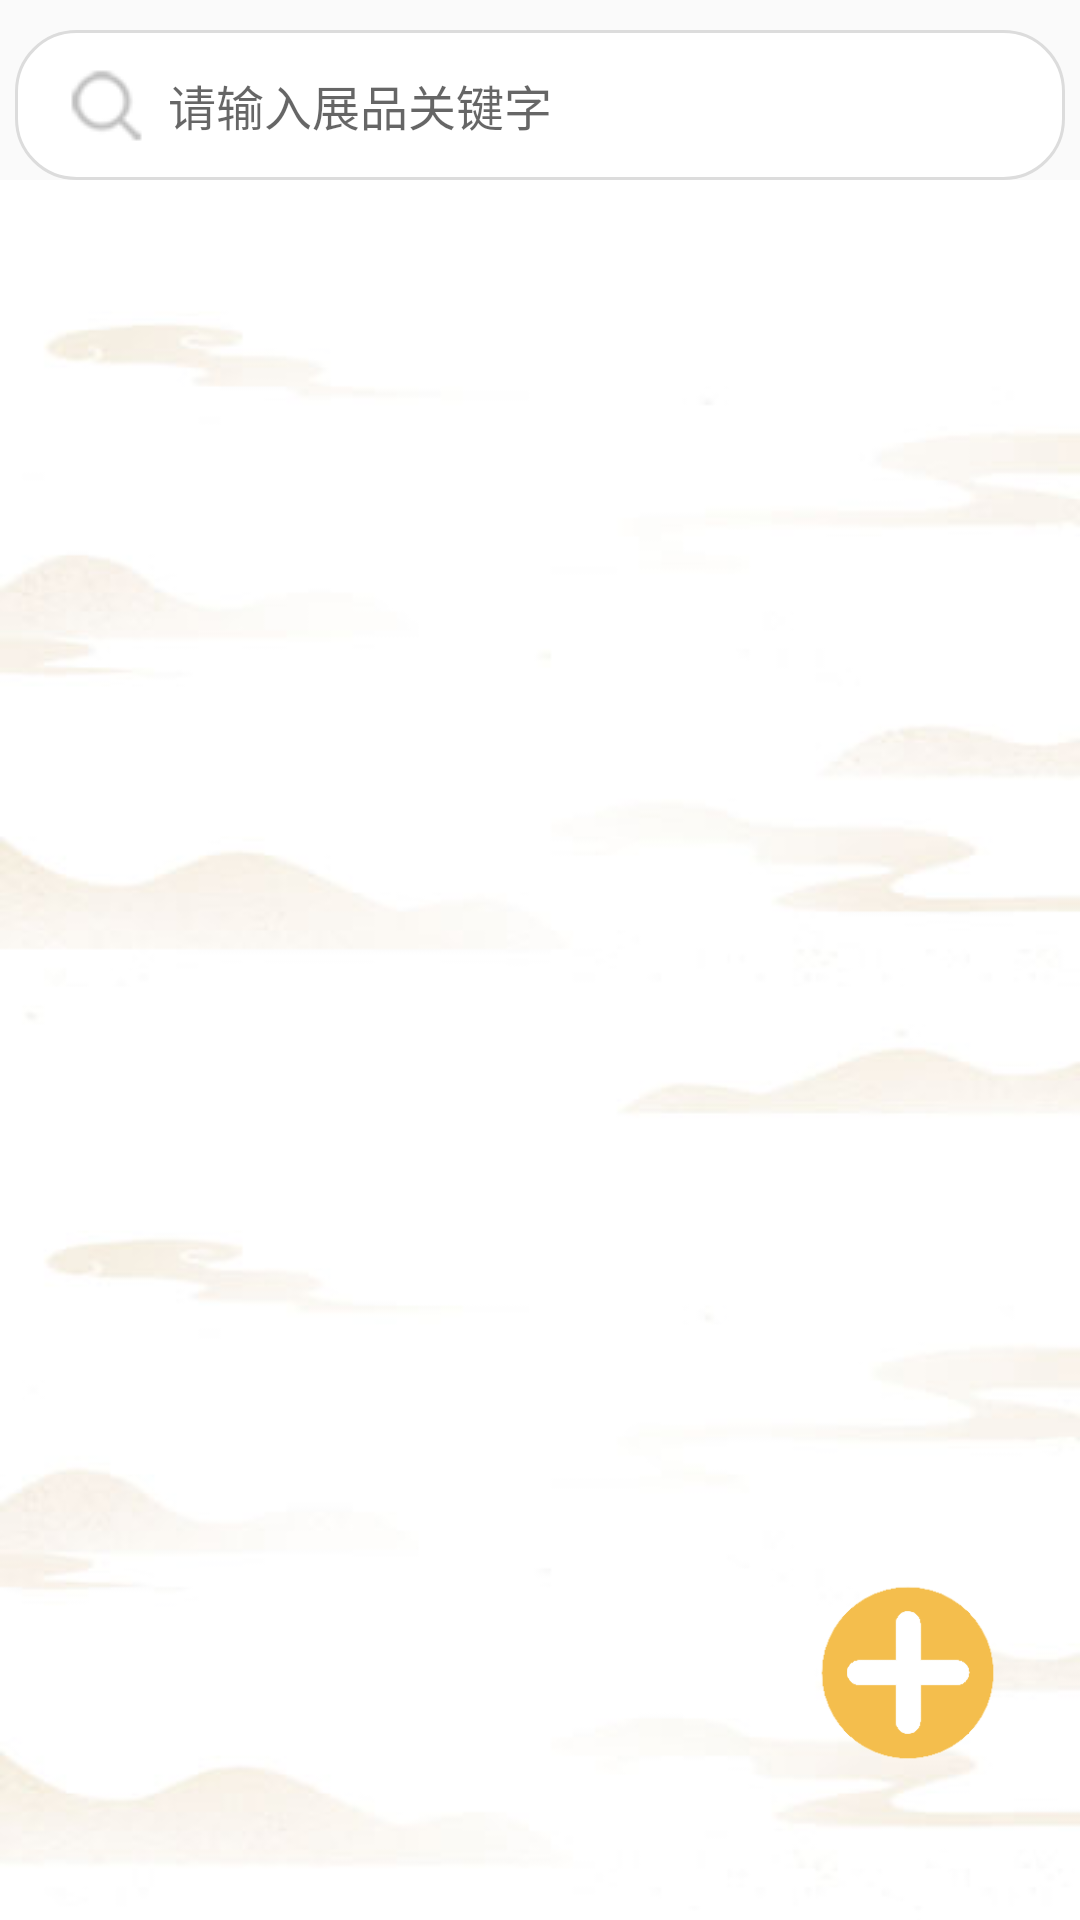

Where to tap for icons on this 1080w x 1920h app screen, as (x,y):
add article: (907,1673)
